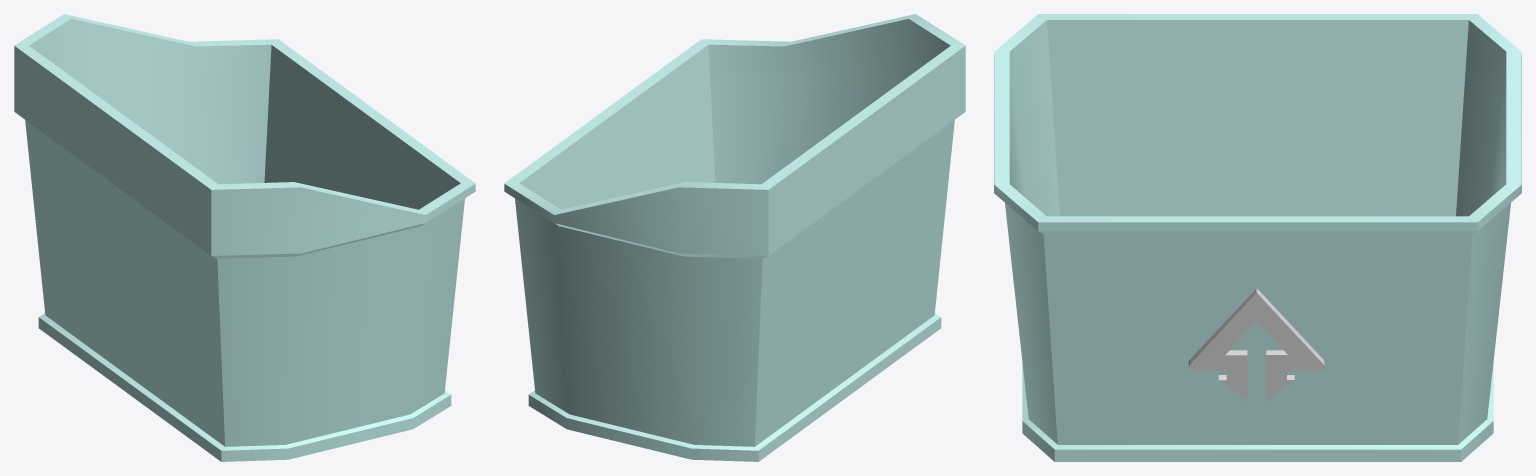
Rendered from Conteiner.fbx.
3 views of the same model, side by side, from view 1: azimuth 30°, elevation 25°; view 2: azimuth 150°, elevation 25°; view 3: azimuth 270°, elevation 25° (orthographic). The views are drawn at different scales.
Parts seen in each view (by area): view 1: Conteiner; view 2: Conteiner; view 3: Conteiner.
Part boxes in pixels (x1,y1,x2,y2): Conteiner: [14, 14, 475, 461]; Conteiner: [504, 14, 965, 461]; Conteiner: [994, 14, 1521, 461].
Size of the model in its own units: 560 by 571 by 869.
